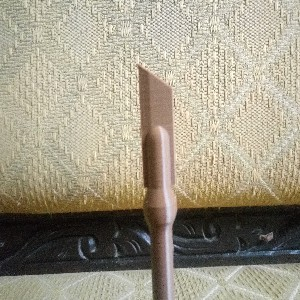cutter: (135, 61, 179, 300)
